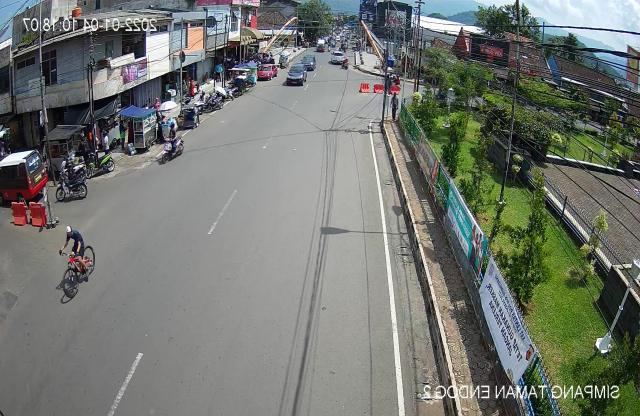Mobil: (0, 150, 46, 207), (283, 62, 307, 88)
Motor: (53, 157, 90, 197), (160, 120, 188, 170), (86, 145, 114, 180)
